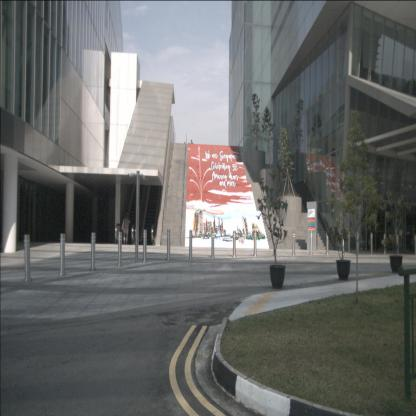human-pedestrian-adult: (121, 213, 131, 245)
